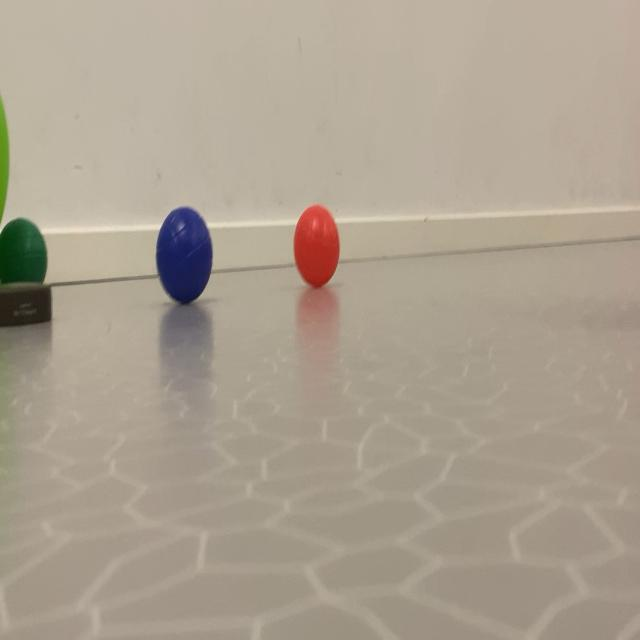6: (135, 141, 360, 340)
7: (274, 65, 375, 436)
green ball: (152, 35, 215, 517)
red ball: (0, 167, 67, 281)
